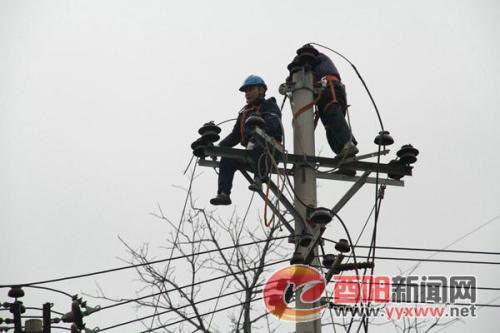boots: (334, 143, 359, 175), (248, 172, 270, 195), (210, 191, 232, 204)
gloves: (296, 44, 319, 57)
hard-hat: (239, 73, 267, 91), (296, 44, 319, 57)
person: (279, 43, 359, 175), (209, 74, 284, 204)
ppe-suit: (292, 52, 356, 164), (214, 95, 284, 195)
